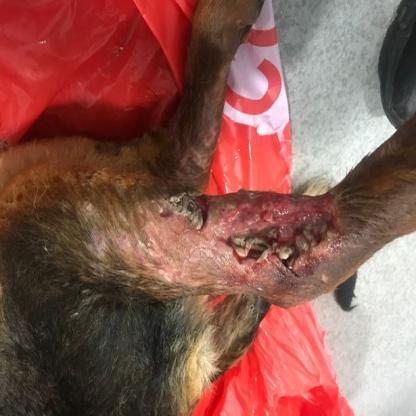injured: (137, 184, 355, 298)
